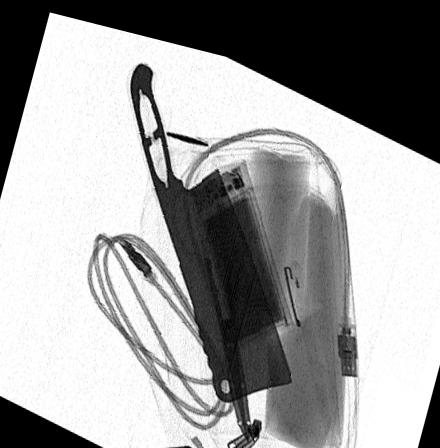Knife: (130, 54, 296, 392)
Powerbank: (185, 145, 295, 345)
Scissors: (173, 148, 251, 430)
